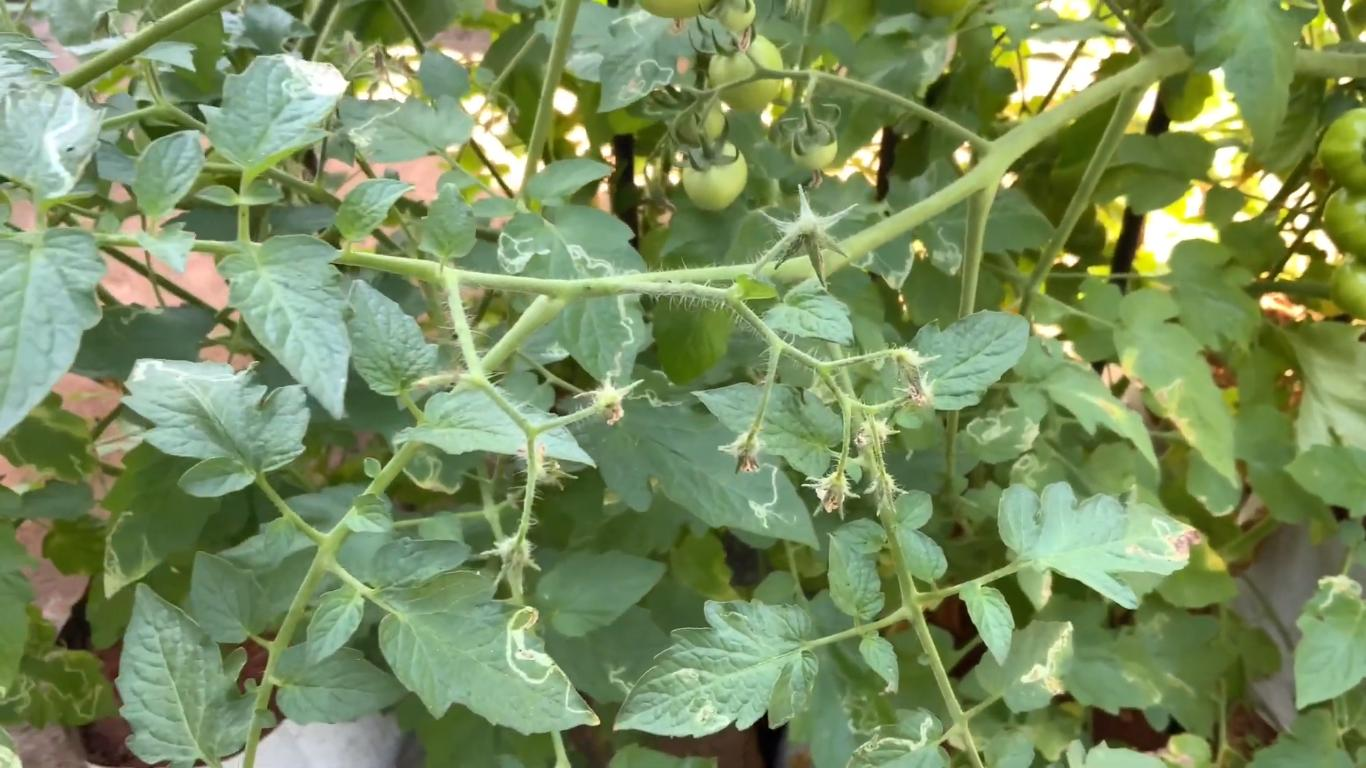Leaf_Miner: (561, 368, 822, 554), (377, 567, 601, 736), (495, 200, 650, 390), (612, 597, 819, 738), (999, 480, 1202, 611), (119, 357, 309, 496), (1114, 285, 1242, 490), (885, 155, 1055, 271), (104, 439, 223, 597), (197, 55, 350, 173), (0, 604, 120, 735), (0, 81, 106, 201), (596, 9, 695, 114), (1292, 575, 1366, 712), (0, 388, 101, 484), (335, 95, 473, 163), (975, 620, 1075, 713), (845, 705, 954, 768), (968, 402, 1040, 465), (846, 238, 918, 291)
